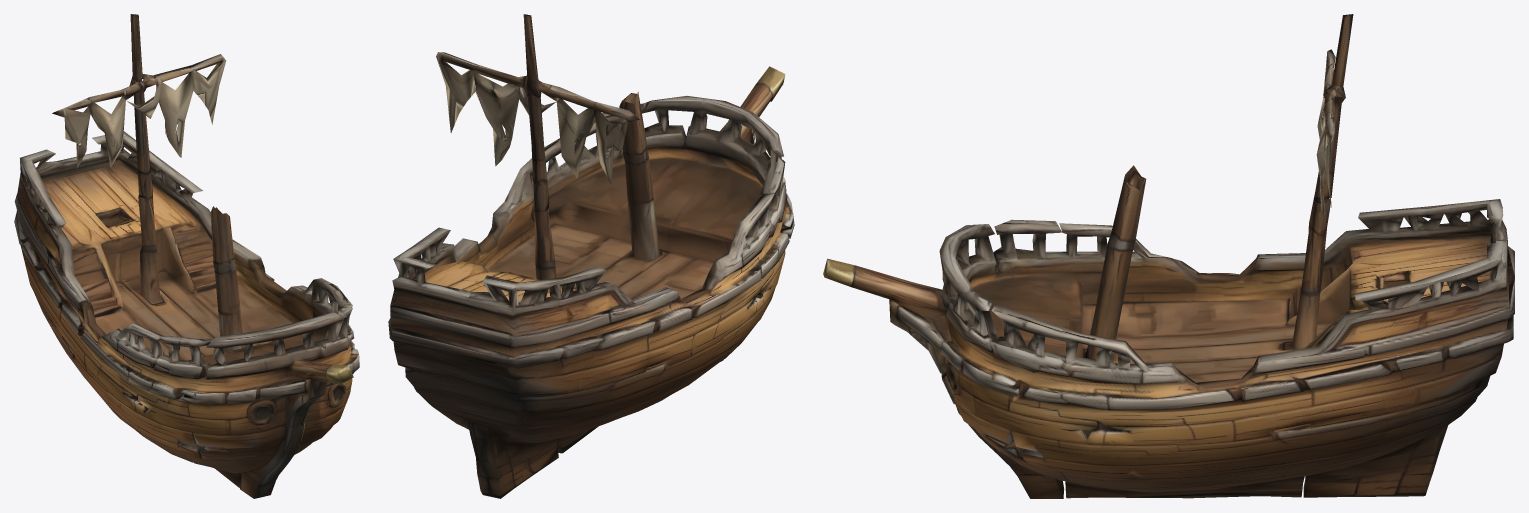
File: PIPELINE3D-env_santa_anna_wreck-batch2-7-delivery-model-fbx-a96338e270be-7b68a48905dc.fbx
The picture shows the model from 3 angles, left to right: view 1: azimuth 30°, elevation 25°; view 2: azimuth 150°, elevation 25°; view 3: azimuth 270°, elevation 25°; orthographic projection. The views are drawn at different scales.
Visible parts, largest first — view 1: tripo_node_74391752-c62b-4e08-a543-31b9bbe7fbf9; view 2: tripo_node_74391752-c62b-4e08-a543-31b9bbe7fbf9; view 3: tripo_node_74391752-c62b-4e08-a543-31b9bbe7fbf9.
Boxes of the visible parts, <box> form: tripo_node_74391752-c62b-4e08-a543-31b9bbe7fbf9: <box>14,14,359,498</box>; tripo_node_74391752-c62b-4e08-a543-31b9bbe7fbf9: <box>388,14,794,498</box>; tripo_node_74391752-c62b-4e08-a543-31b9bbe7fbf9: <box>823,14,1514,498</box>.
Size of the model in its own units: 852 by 1530 by 2000.
1 material, 1 textured.
